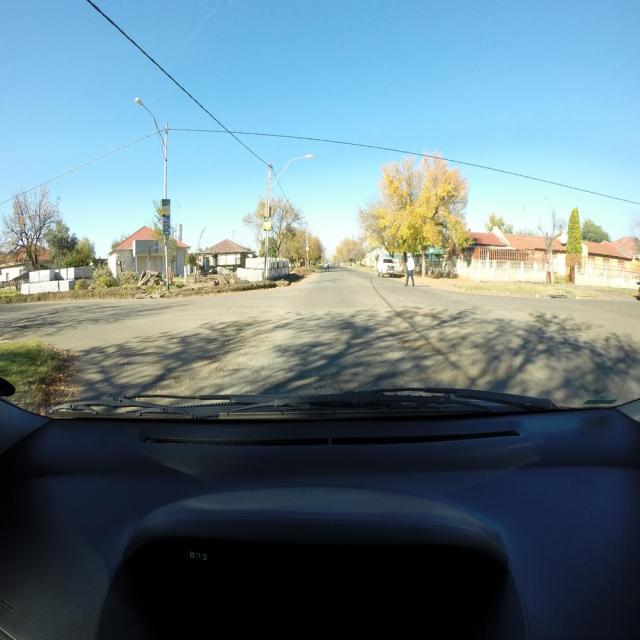Pothole: (200, 354, 248, 372), (174, 372, 206, 385), (398, 339, 419, 348)
